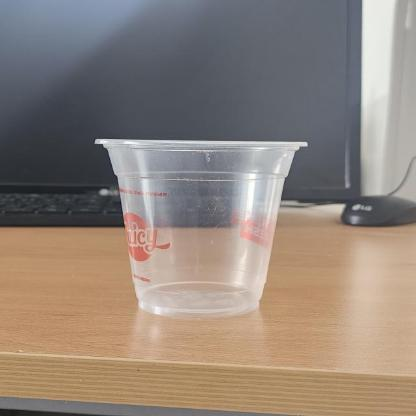Plastic Cup: (94, 137, 310, 317)
